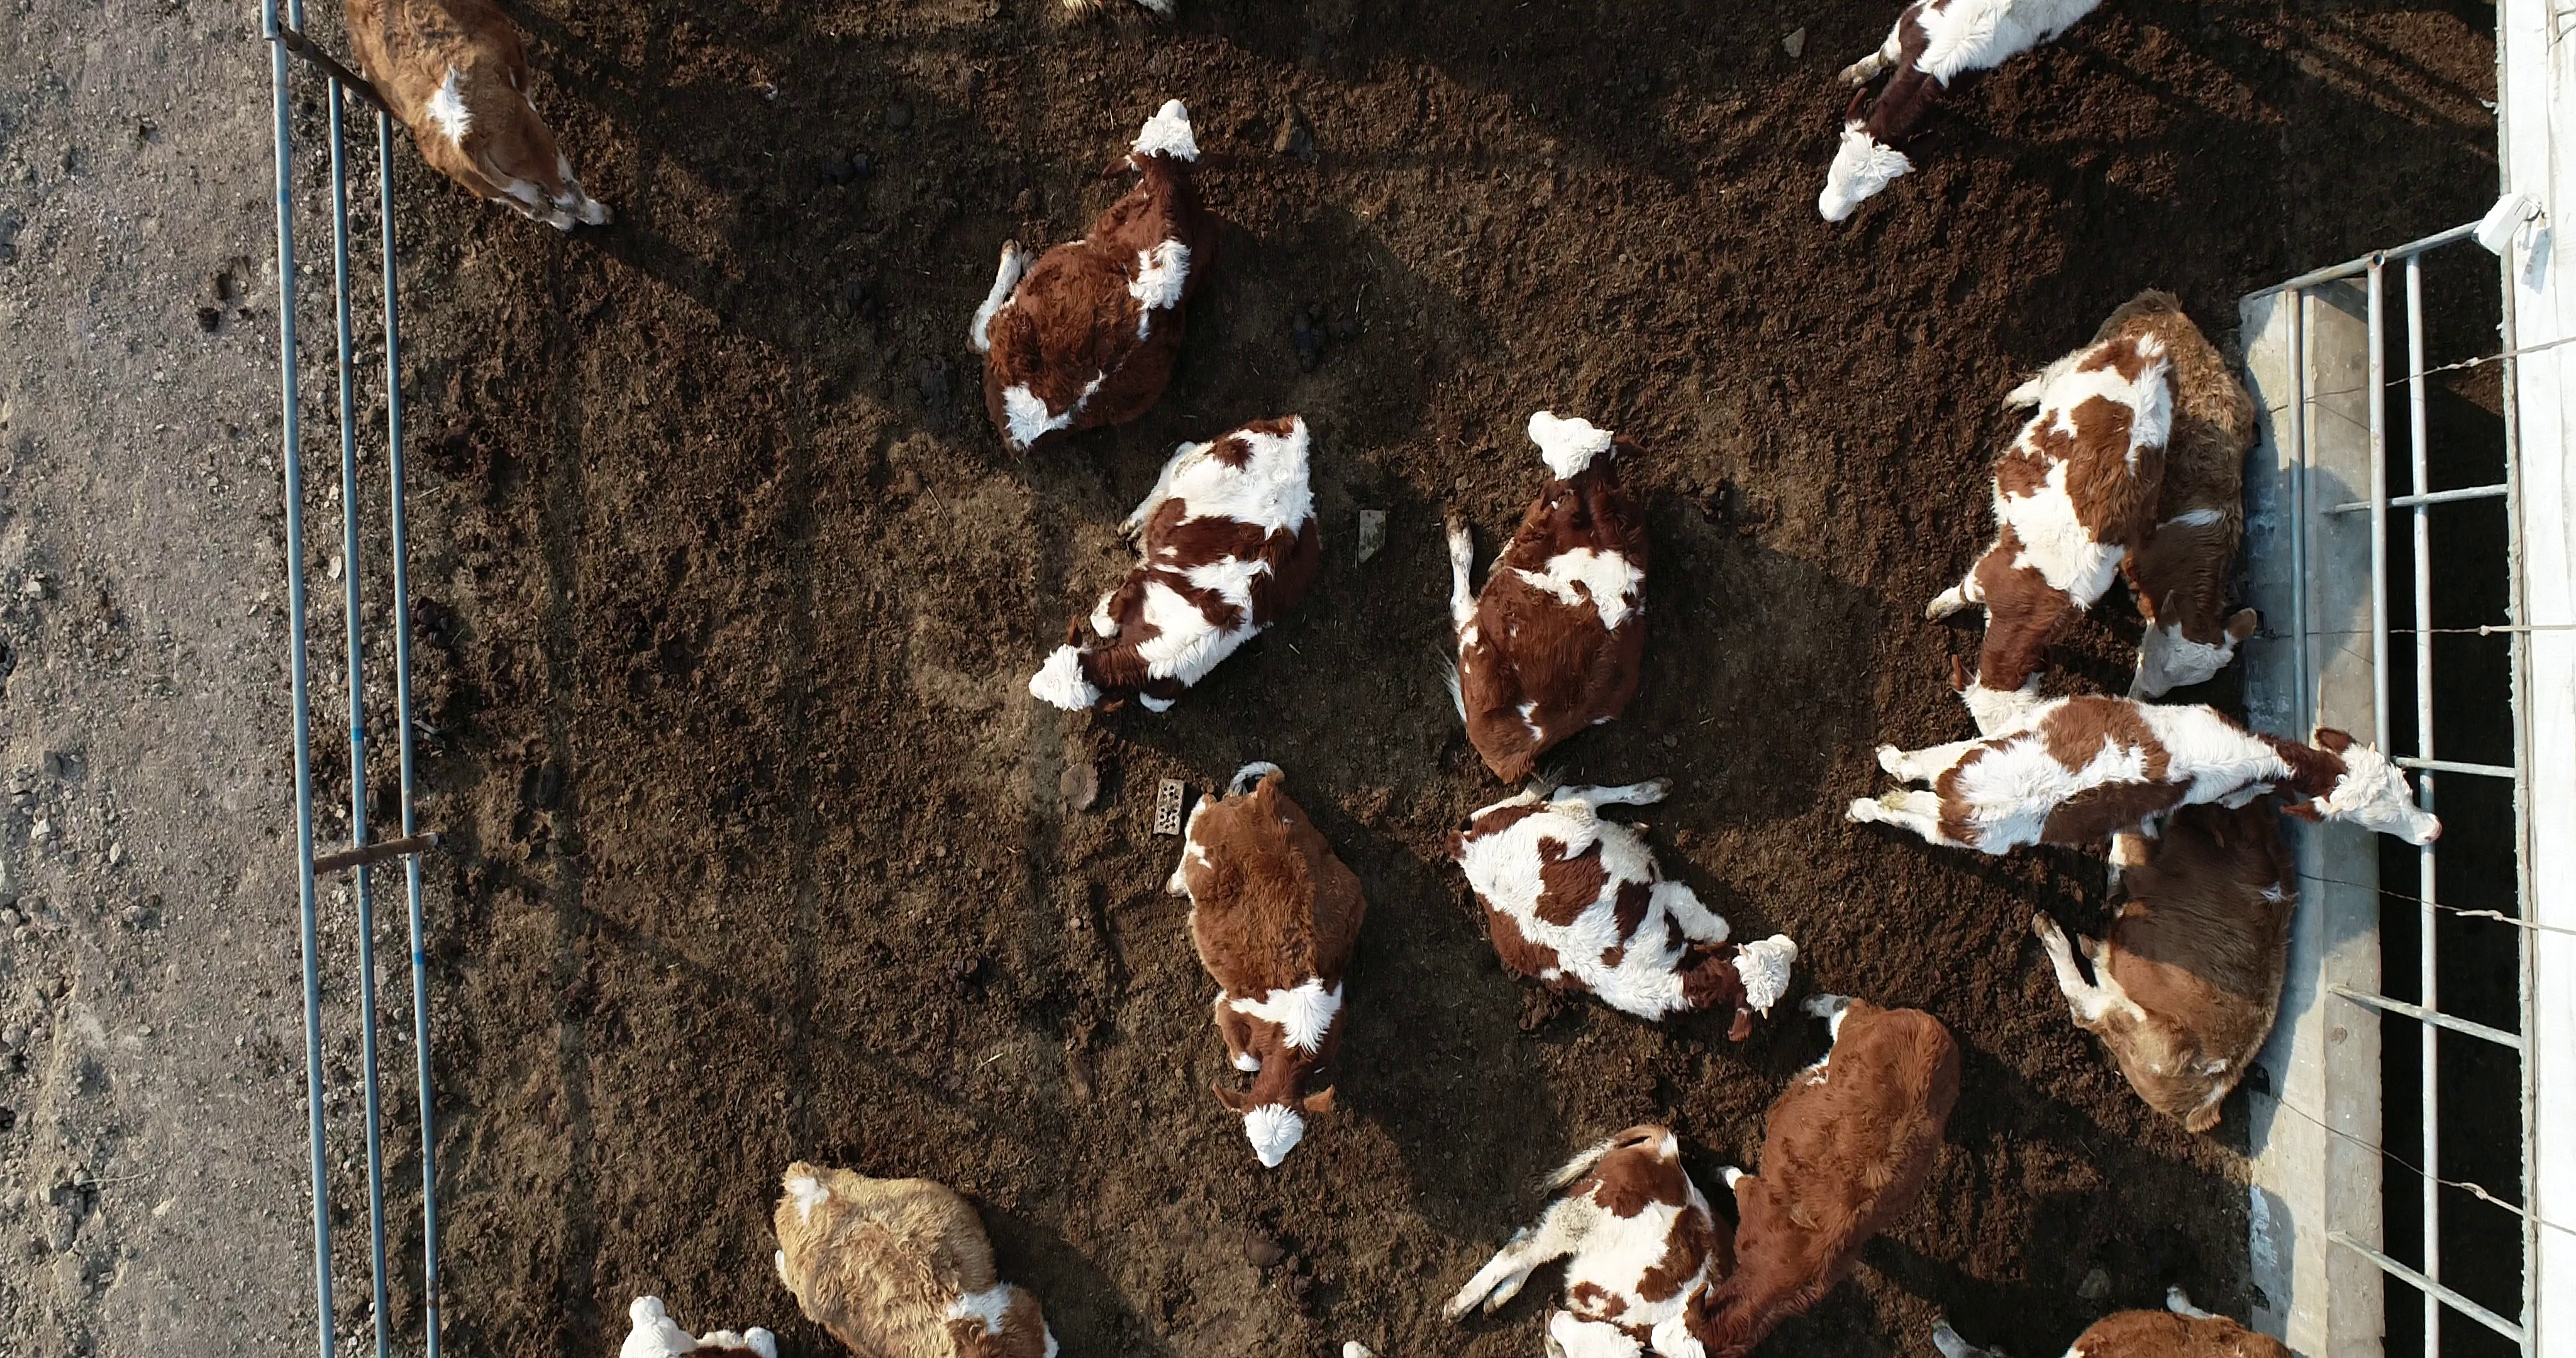cattle: (1649, 987, 1969, 1358), (1922, 329, 2181, 738), (1438, 763, 1804, 1046), (1843, 690, 2447, 859), (961, 95, 1213, 477), (1022, 411, 1329, 724), (1159, 758, 1370, 1176), (1435, 407, 1656, 791)
